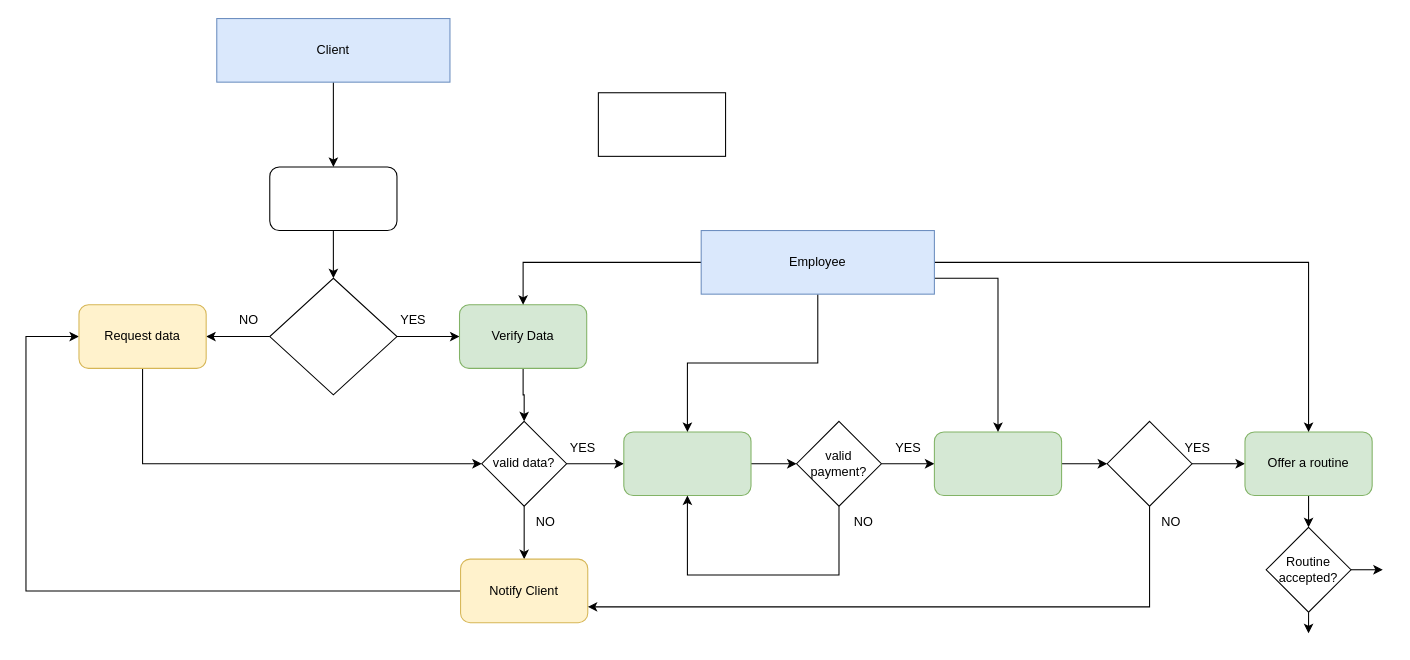
The diagram is 1410 pixels wide and 660 high, and some of its shapes have lost their labels. Each missing label, with the centre of its shape:
"Confirm Inscription" belongs at [997,463].
"Inscription confirmed?" belongs at [1149,463].
"Inscription Request" belongs at [333,198].
"Previously registered?" belongs at [333,336].
"Request payment method" belongs at [687,463].
